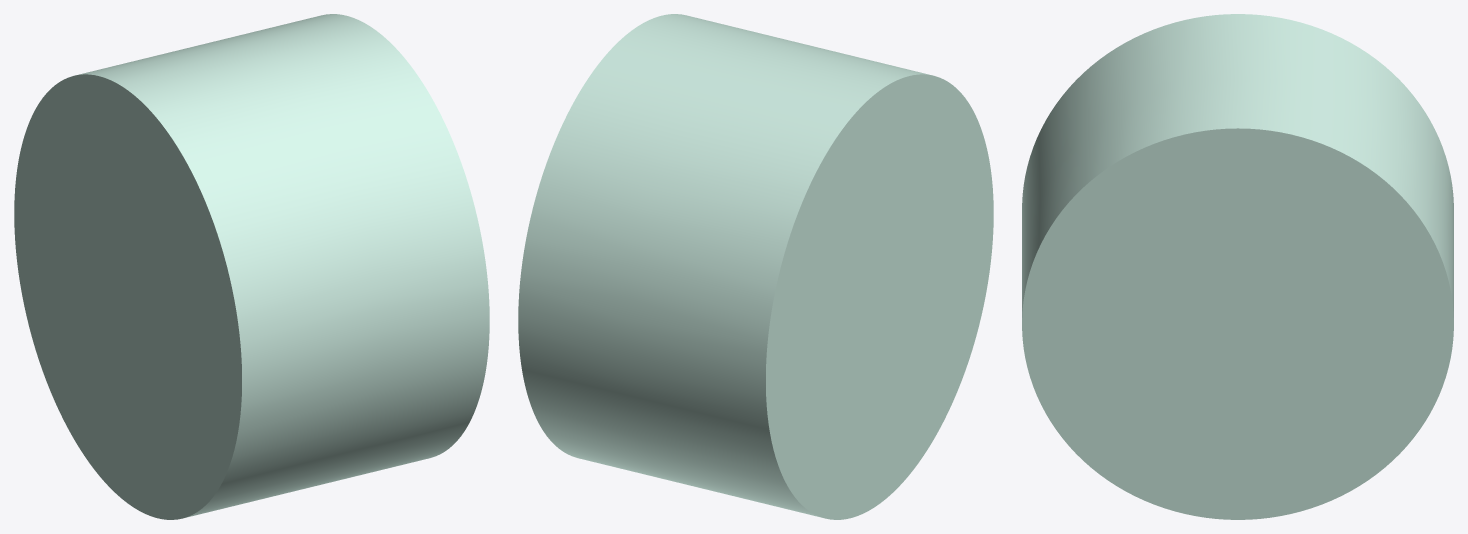
The picture shows the model from 3 angles, left to right: view 1: azimuth 30°, elevation 25°; view 2: azimuth 150°, elevation 25°; view 3: azimuth 270°, elevation 25°; orthographic projection. The views are drawn at different scales.
Visible parts, largest first — view 1: Renderer Node; view 2: Renderer Node; view 3: Renderer Node.
Boxes of the visible parts, <box> form: Renderer Node: <box>14,14,489,519</box>; Renderer Node: <box>518,14,993,519</box>; Renderer Node: <box>1022,14,1453,519</box>.
Bounding box in the file's own units: 0.6484 × 1.03 × 1.03.
